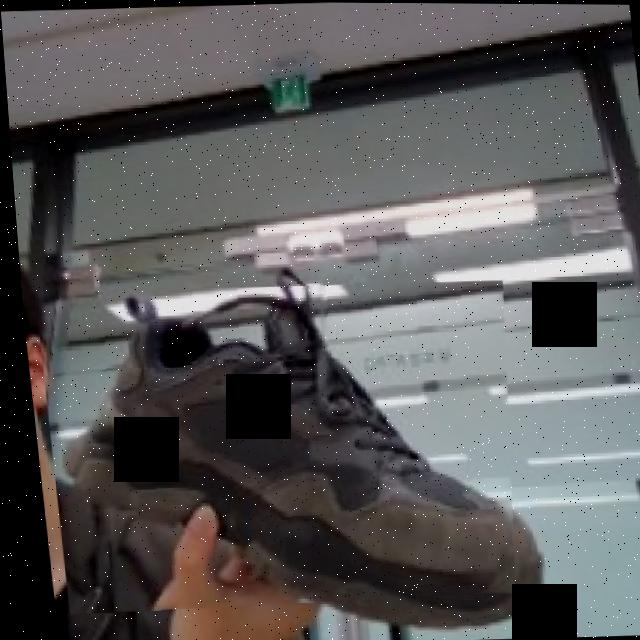shoe: (29, 277, 530, 617)
